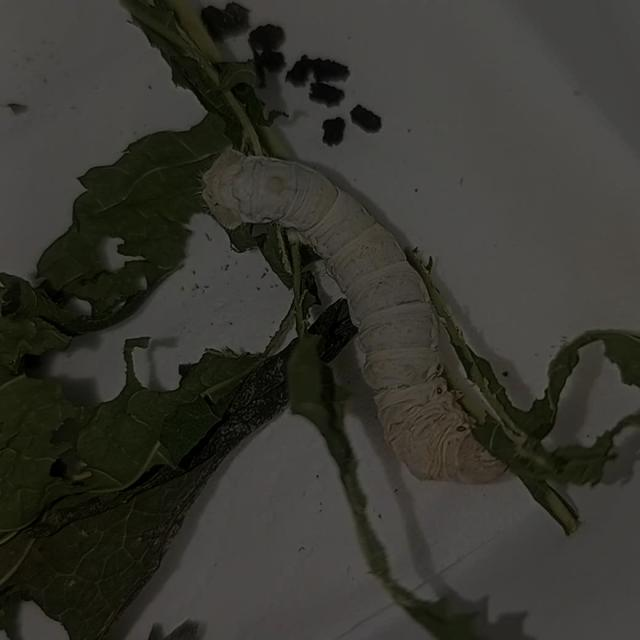Healthy: (176, 122, 538, 516)
